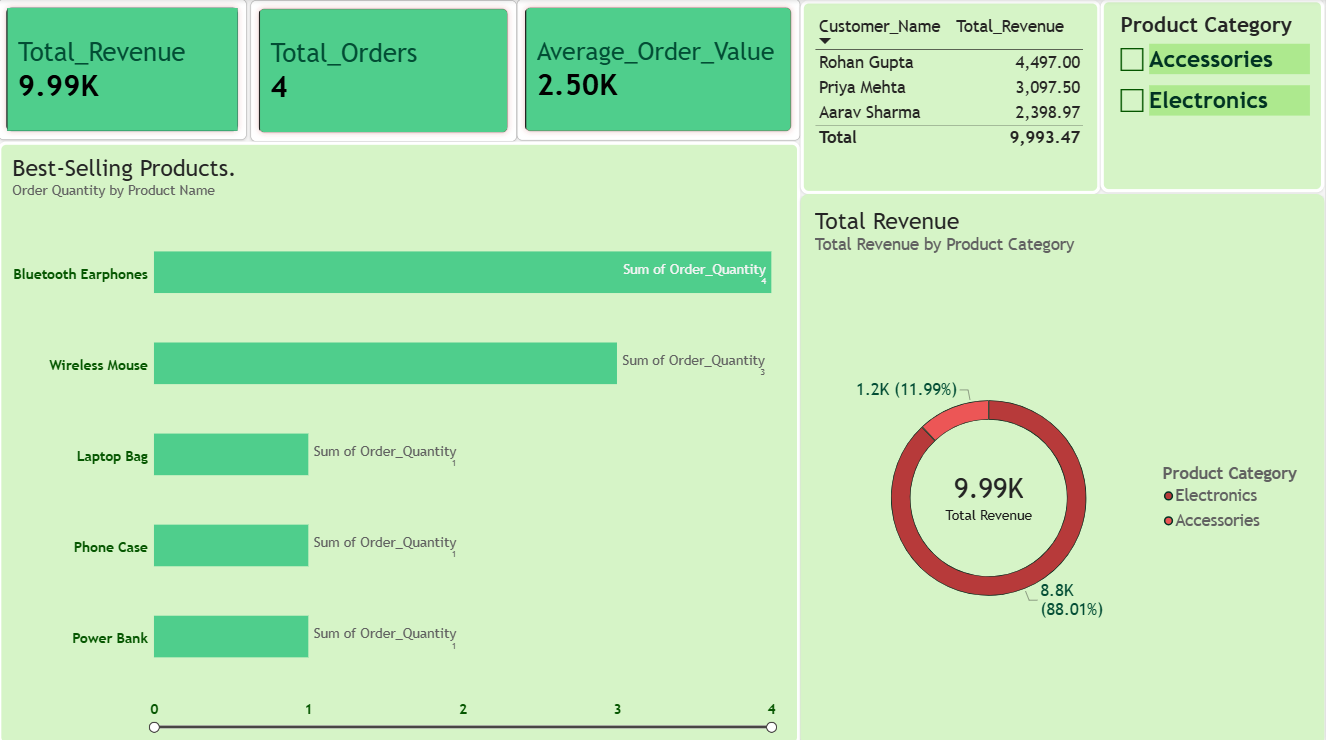

What the dashboard file says about the page in this screenshot:
{"tool":"powerbi","page":{"name":"Page 1","canvas":[1920,1080],"ordinal":0},"visuals":[{"type":"cardVisual","fields":{"Data":["ecommerce_analytics customer_details.Average_Order_Value"]},"box":[751,0,410.8,204.5],"z":0},{"type":"cardVisual","fields":{"Data":["ecommerce_analytics customer_details.Total_Revenue"]},"box":[0,0,360.1,204],"z":1000},{"type":"cardVisual","fields":{"Data":["ecommerce_analytics customer_details.Total_Orders"]},"box":[365.6,1.8,385.5,204.5],"z":2000},{"type":"clusteredBarChart","title":"Best-Selling Products.","fields":{"Category":["ecommerce_analytics product_details.Product_Name"],"Y":["Sum(ecommerce_analytics order_items.Order_Quantity)"]},"box":[0,206.3,1161.8,874.4],"z":3000},{"type":"tableEx","fields":{"Values":["ecommerce_analytics customer_details.Customer_Name","ecommerce_analytics customer_details.Total_Revenue"]},"box":[1161.8,1.8,434.3,280.5],"z":4000},{"type":"slicer","fields":{"Values":["ecommerce_analytics product_details.Product_Category"]},"box":[1596.1,0,323.9,280],"z":5000},{"type":"donutChart","title":"Total Revenue","fields":{"Category":["ecommerce_analytics product_details.Product_Category"],"Y":["ecommerce_analytics customer_details.Total_Revenue"]},"box":[1161.8,282.3,758.2,798.1],"z":6000}]}

Visuals, with their boxes in screenshot pixels (x1, y1, x2, y2), scaled from the page's 1920x1080 canvas onto the 1326x740 screenshot:
cardVisual - ecommerce_analytics customer_details.Average_Order_Value: (left=519, top=0, right=802, bottom=140)
cardVisual - ecommerce_analytics customer_details.Total_Revenue: (left=0, top=0, right=249, bottom=140)
cardVisual - ecommerce_analytics customer_details.Total_Orders: (left=252, top=1, right=519, bottom=141)
"Best-Selling Products." clusteredBarChart: (left=0, top=141, right=802, bottom=739)
tableEx - ecommerce_analytics customer_details.Customer_Name x ecommerce_analytics customer_details.Total_Revenue: (left=802, top=1, right=1102, bottom=193)
slicer - ecommerce_analytics product_details.Product_Category: (left=1102, top=0, right=1325, bottom=192)
"Total Revenue" donutChart: (left=802, top=193, right=1325, bottom=739)
